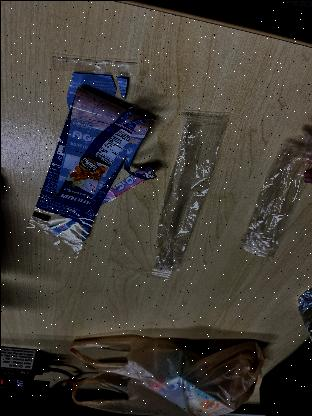Others: (22, 42, 146, 272), (146, 94, 230, 284), (238, 117, 312, 267)
